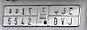2: (27, 7, 34, 25)
4: (20, 8, 26, 26)
5: (7, 8, 12, 26), (14, 8, 19, 26)
B: (52, 9, 60, 26)
J: (67, 6, 74, 27)
V: (60, 6, 67, 27)
